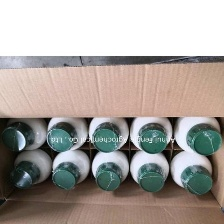book: (0, 60, 224, 224)
insecticide: (163, 140, 217, 199), (168, 102, 224, 158), (0, 108, 53, 156), (6, 144, 59, 192), (89, 137, 132, 193), (126, 108, 175, 156), (126, 148, 172, 196), (84, 107, 131, 153), (50, 148, 92, 194), (46, 112, 91, 152)
